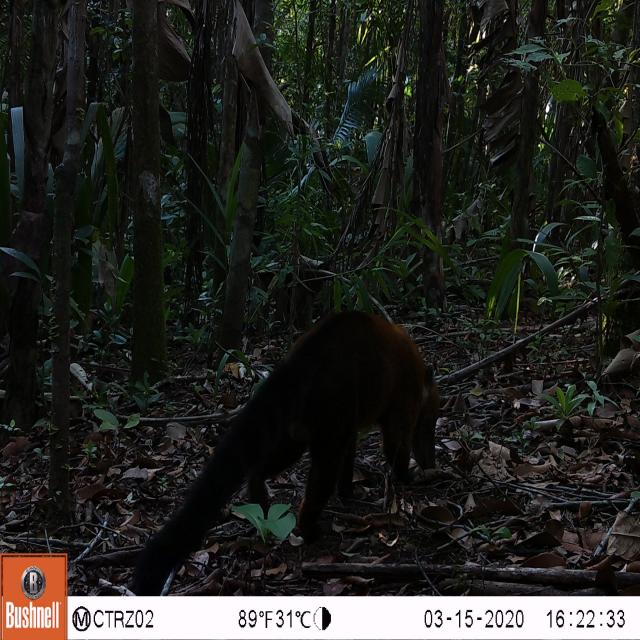South American Coati: (129, 300, 453, 598)
